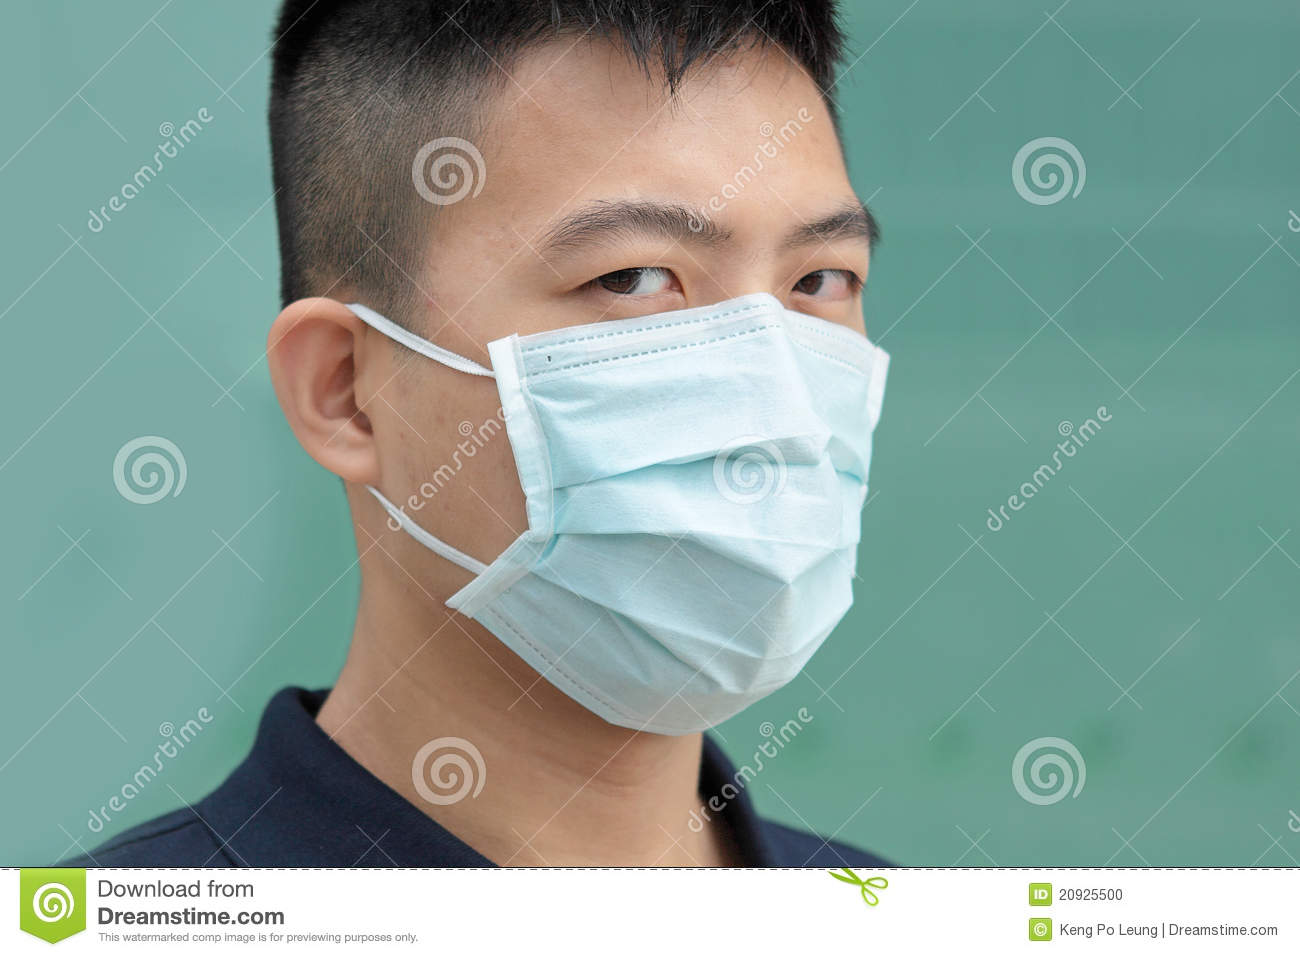mask: (455, 294, 890, 746)
